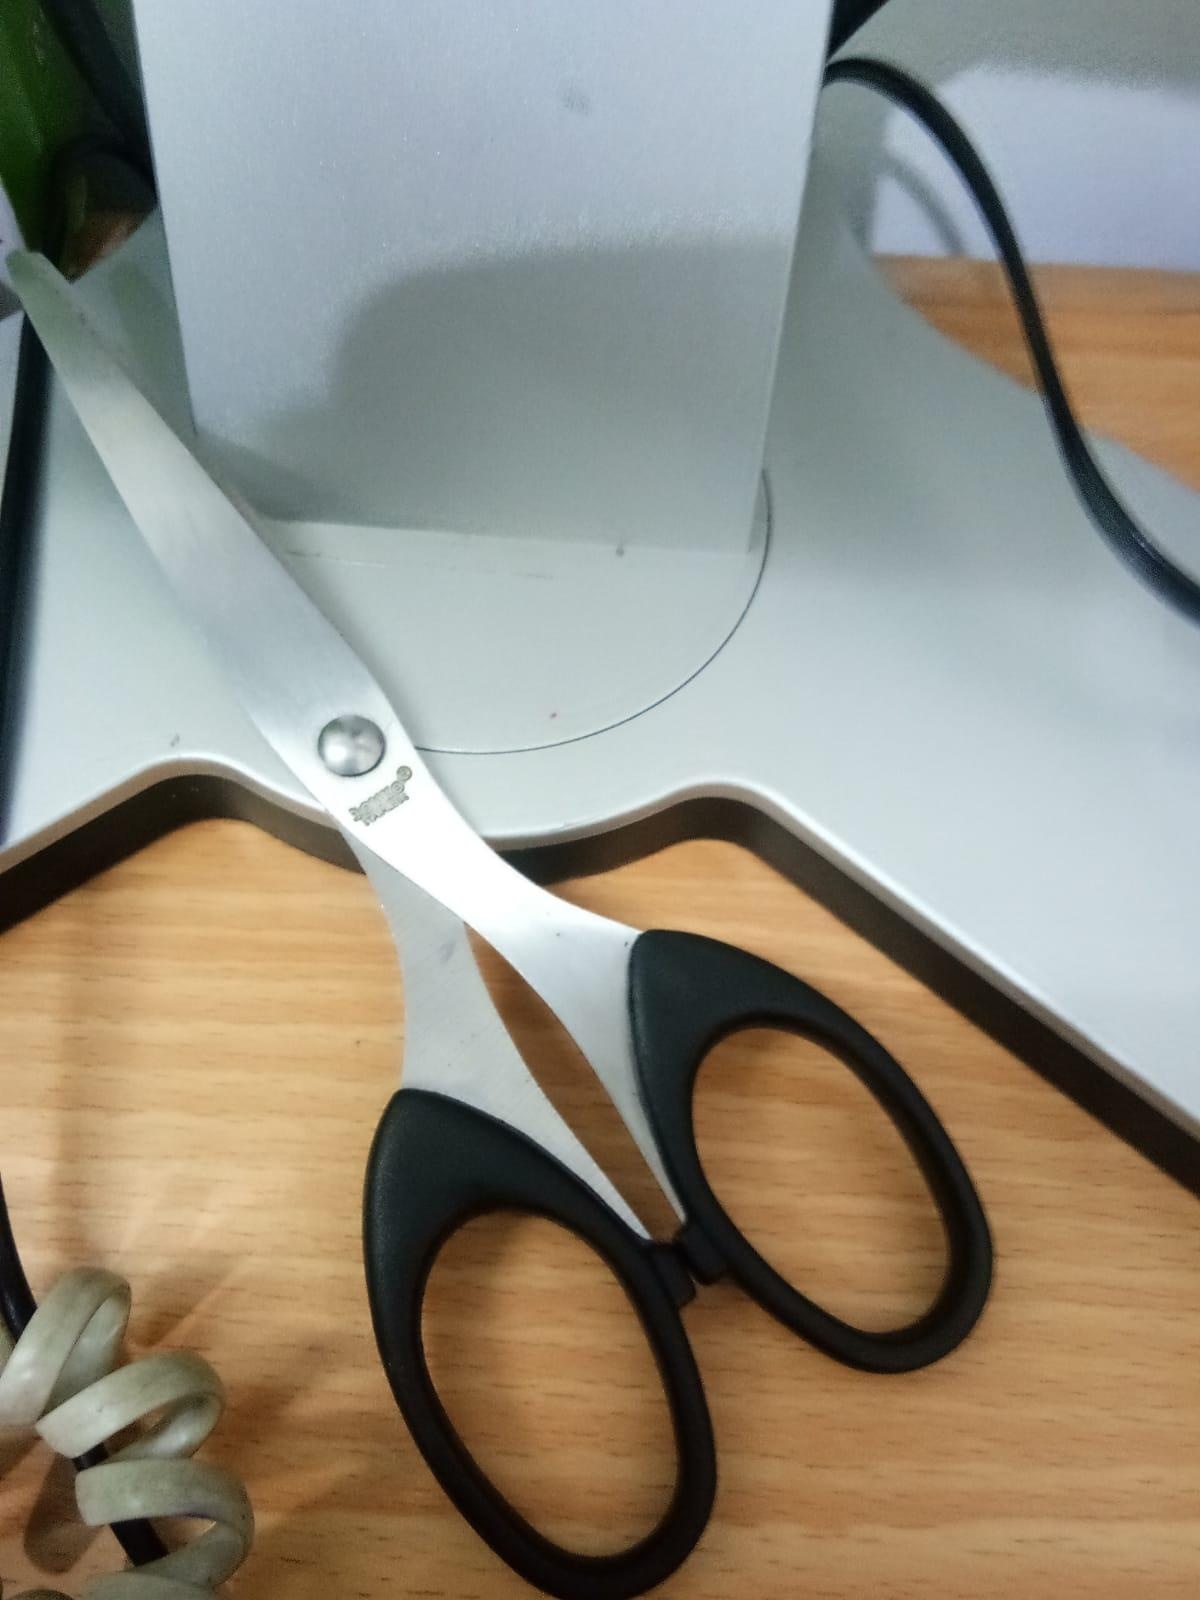scissors: (0, 186, 995, 1599)
